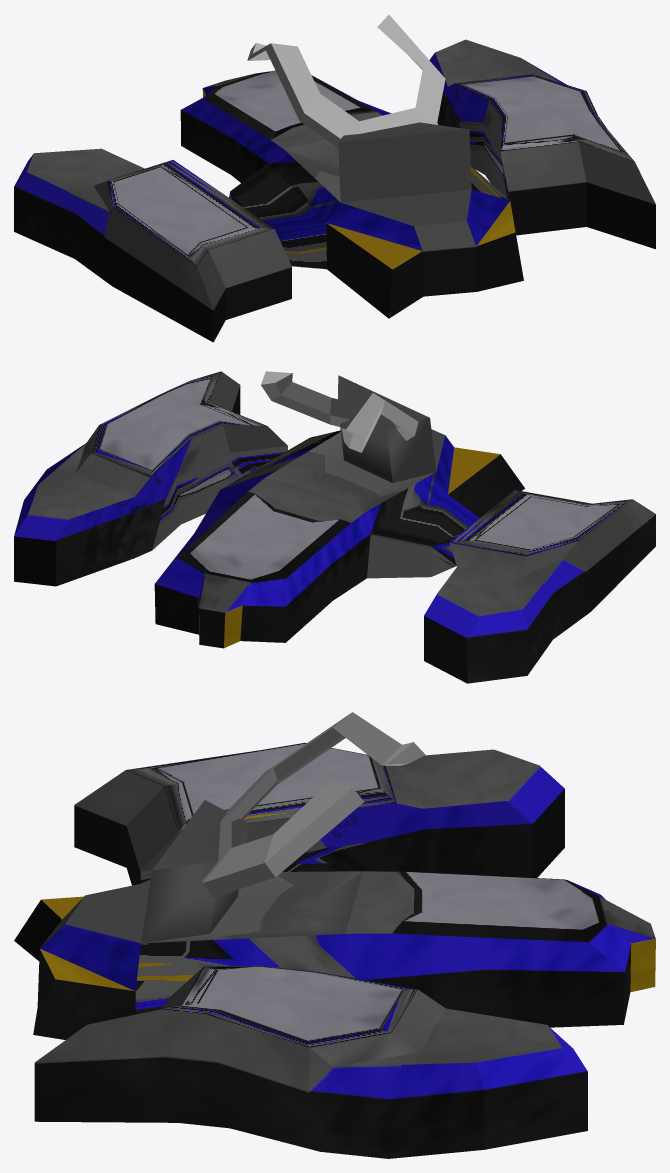
Rendered from TritonWreckage.fbx.
The picture shows the model from 3 angles, top to bottom: view 1: azimuth 30°, elevation 25°; view 2: azimuth 150°, elevation 25°; view 3: azimuth 270°, elevation 25°; orthographic projection. The views are drawn at different scales.
Visible parts, largest first — view 1: Mesh1, Mesh, Mesh2, polySurface13; view 2: Mesh1, Mesh2, Mesh, polySurface13; view 3: Mesh1, Mesh2, Mesh, polySurface13.
Part boxes in pixels (left/top/right/bottom): Mesh1: left=180, top=70, right=523, bottom=318; Mesh: left=14, top=148, right=291, bottom=342; Mesh2: left=429, top=39, right=655, bottom=249; polySurface13: left=247, top=14, right=445, bottom=148; Mesh1: left=154, top=375, right=524, bottom=648; Mesh2: left=14, top=371, right=287, bottom=586; Mesh: left=424, top=490, right=655, bottom=683; polySurface13: left=261, top=371, right=418, bottom=452; Mesh1: left=14, top=800, right=655, bottom=1039; Mesh2: left=34, top=965, right=587, bottom=1158; Mesh: left=74, top=742, right=564, bottom=885; polySurface13: left=202, top=712, right=425, bottom=897.
Size of the model in its own units: 12.79 by 4.27 by 10.36.
